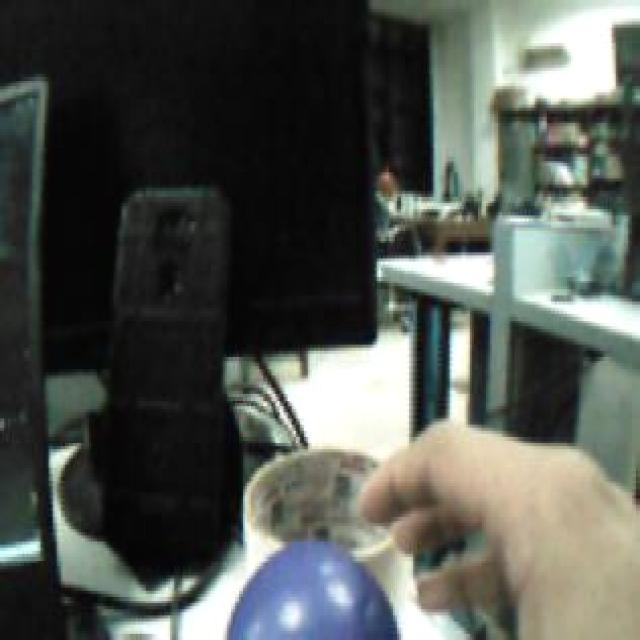BallPurple: (225, 541, 403, 640)
